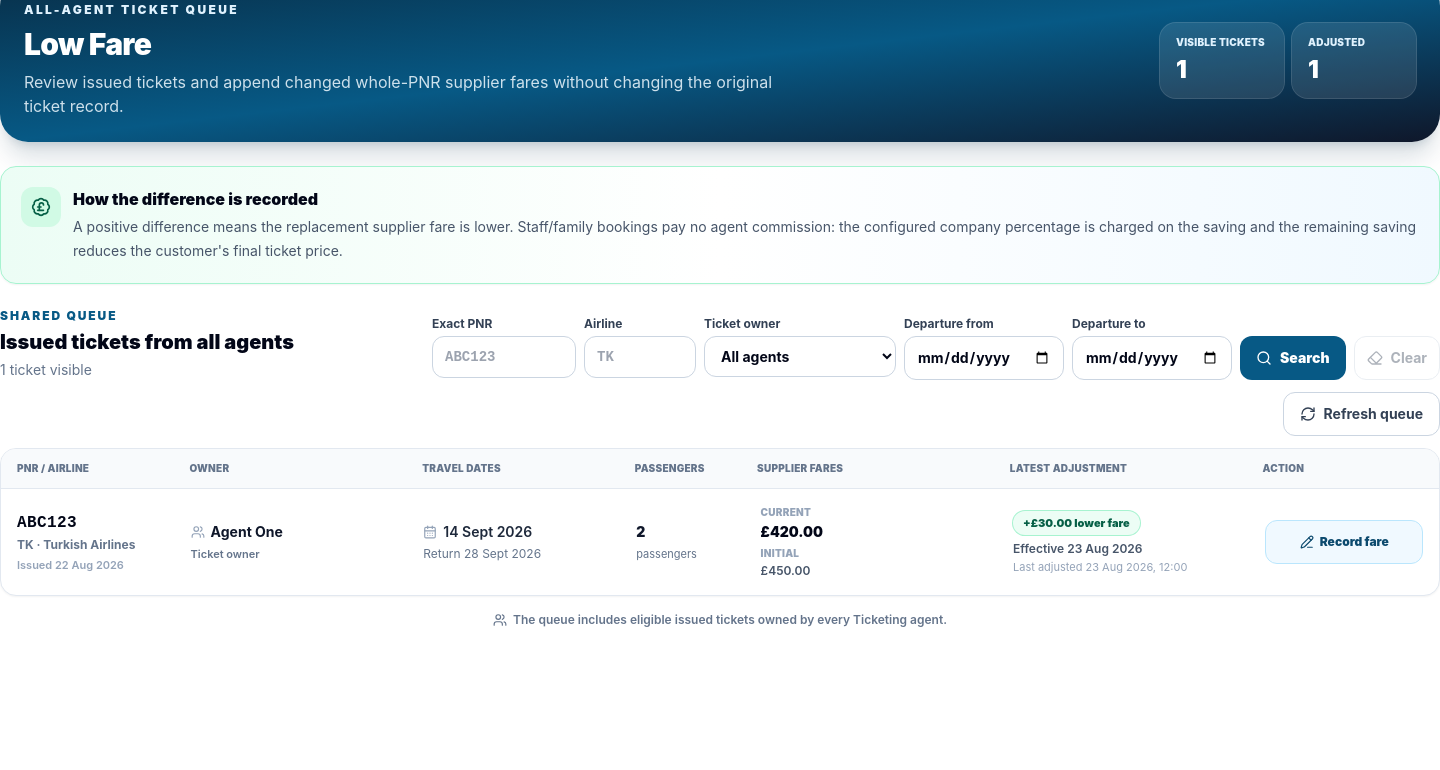
Test: LowFareClient › previews signed lower and higher fares and posts only operational adjustment fields
The width and height of the screenshot is (1440, 770).
Expected: the text "ABC123" is shown, [17,514,77,532]
Step 1. Click the button with aria-label "Record fare for ABC123" → [1344, 542], box [1265,520,1423,564]
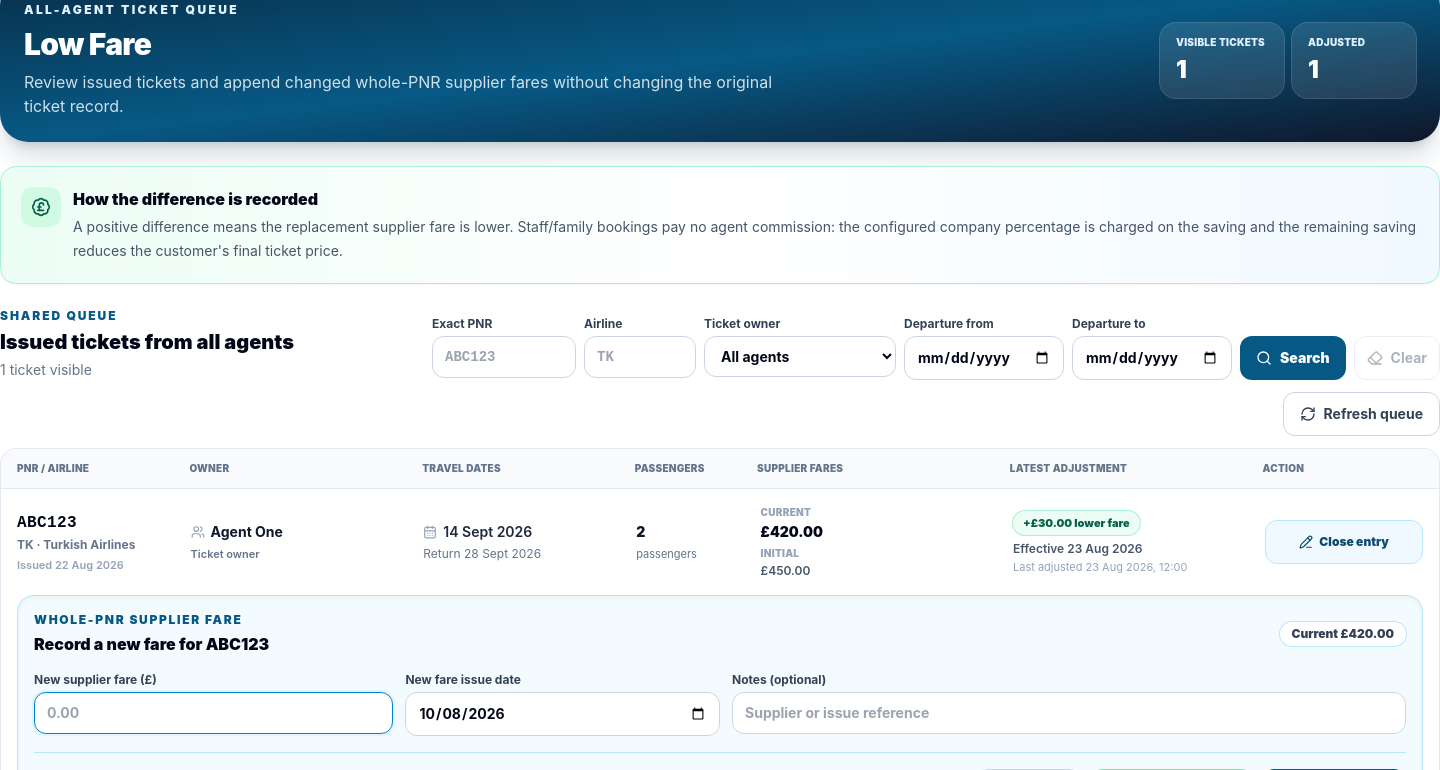
Step 2. Type "450.00" into the field named "New supplier fare for ABC123" → [214, 713], box [34,692,394,734]
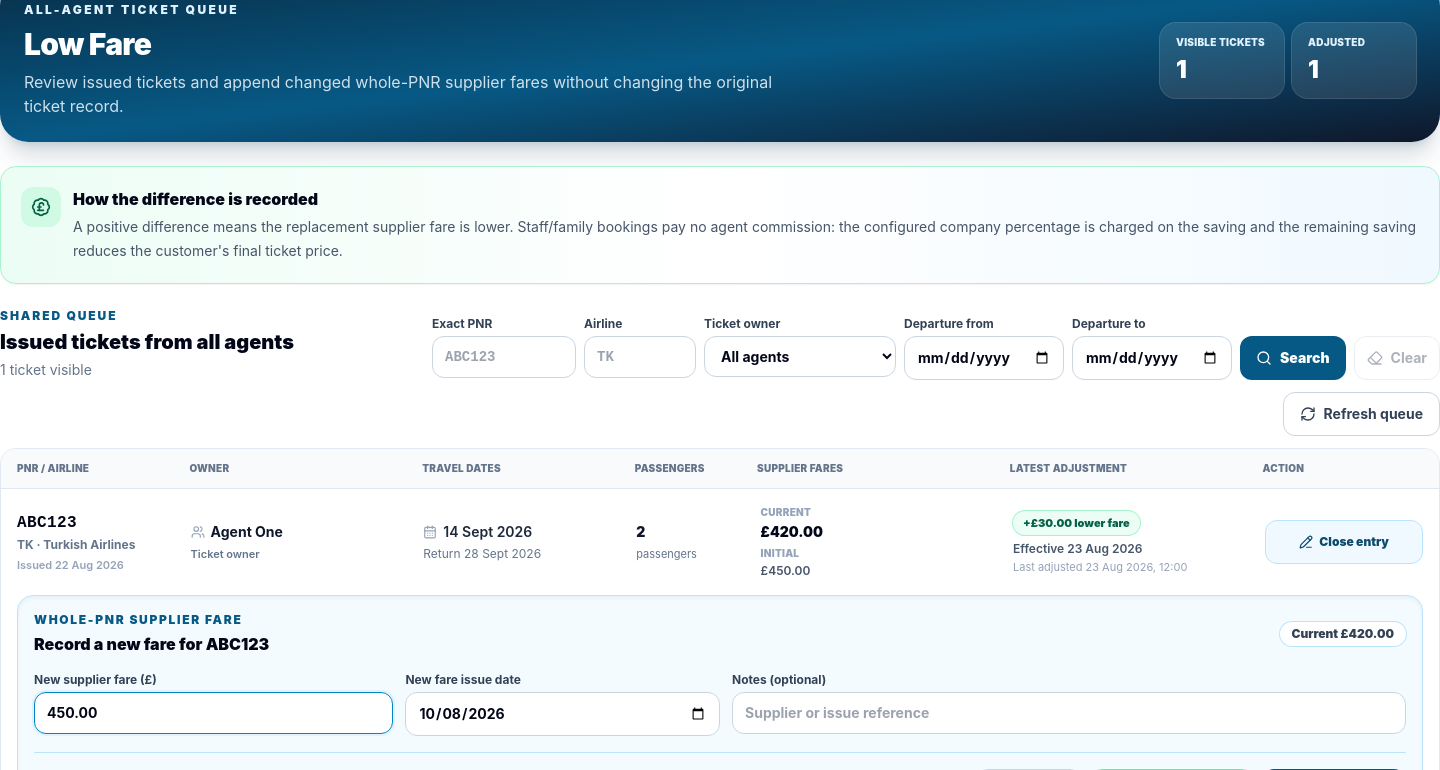
Step 3. Replace the text in the field named "New supplier fare for ABC123" with "380.00" → [214, 713], box [34,692,394,734]
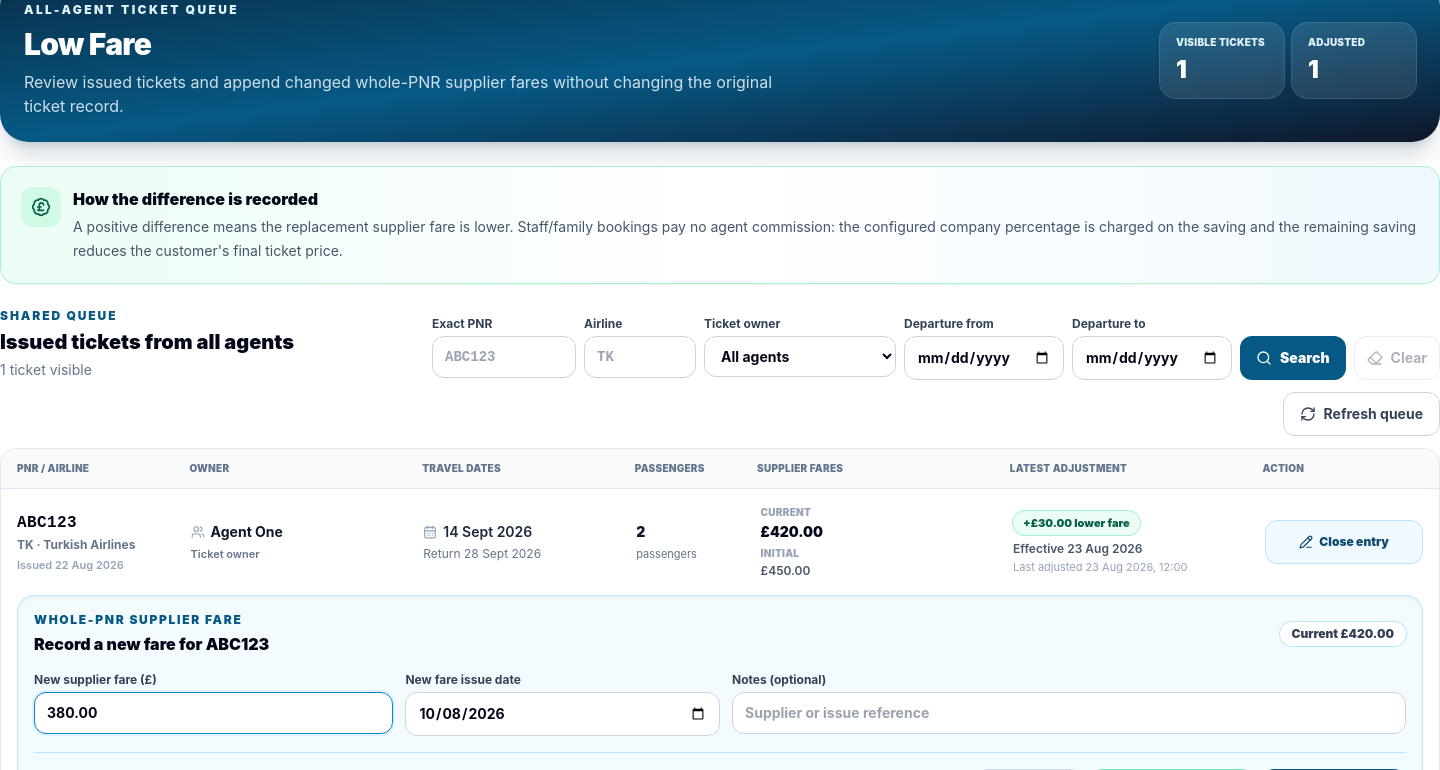
Step 4. Type "2026-08-24" into the date field labelled "New fare issue date" → [563, 714], box [406,692,720,736]
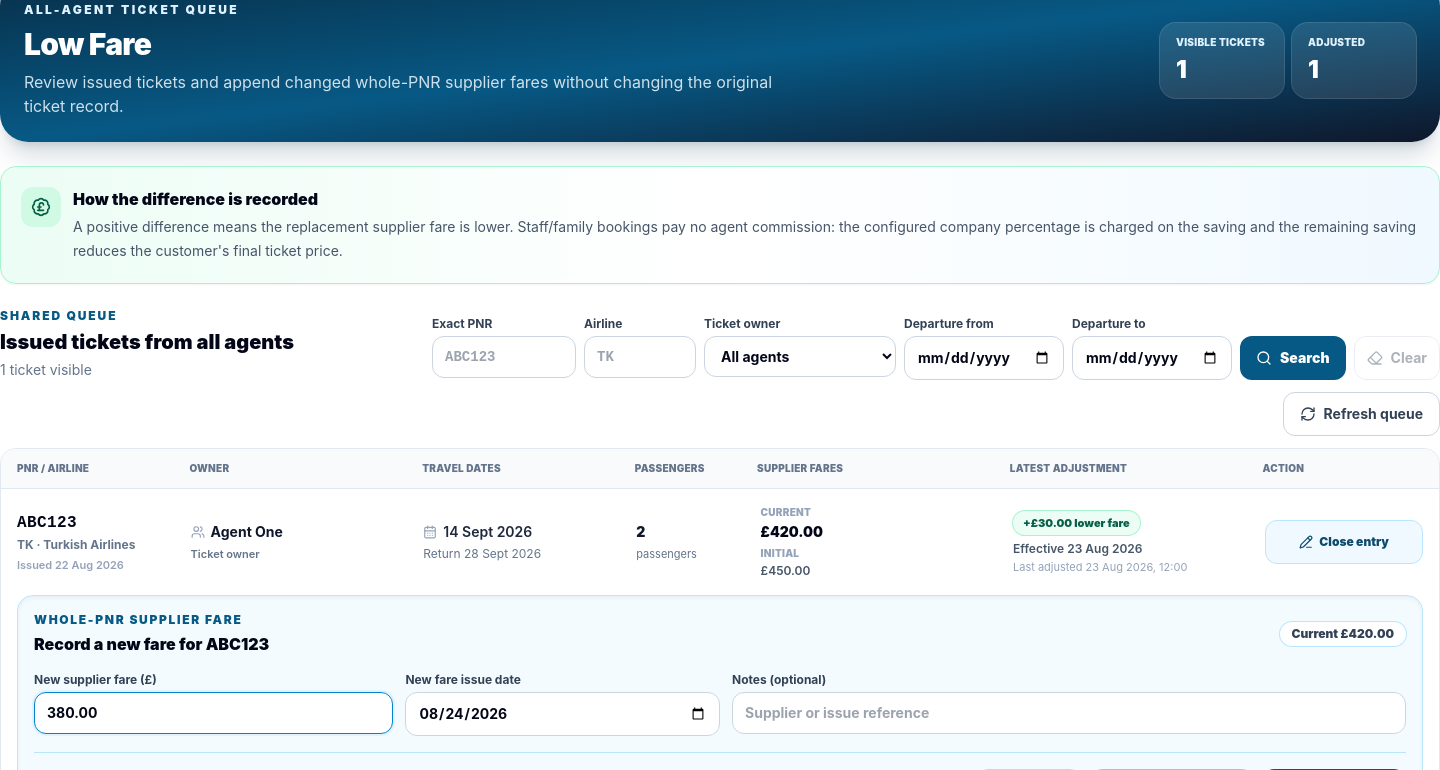
Step 5. Type "Supplier portal fare" into the field labelled "Notes (optional)" → [1069, 713], box [732,692,1406,734]
(page scrolled)
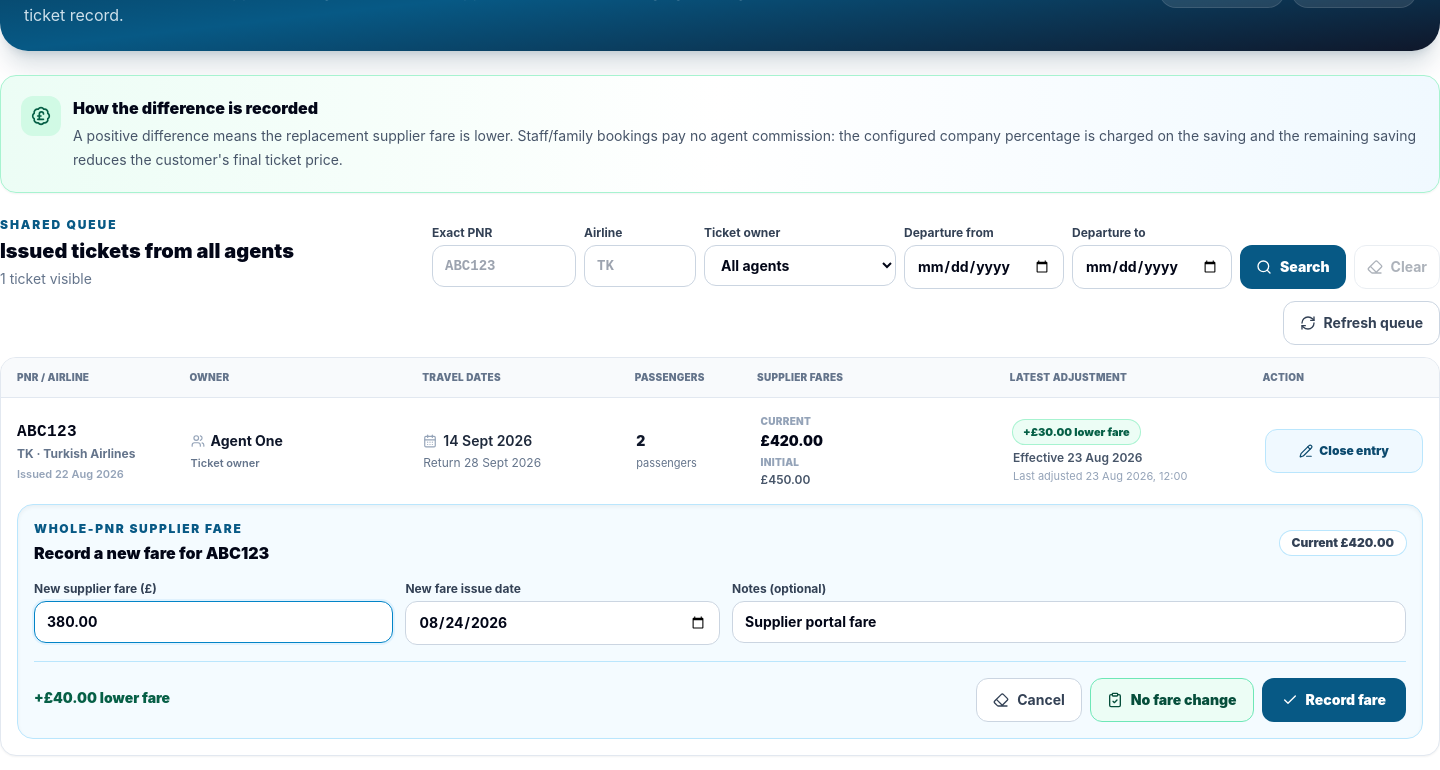
Step 6. Click the button "Record fare" → [1334, 700], box [1262,678,1406,722]
(page scrolled)
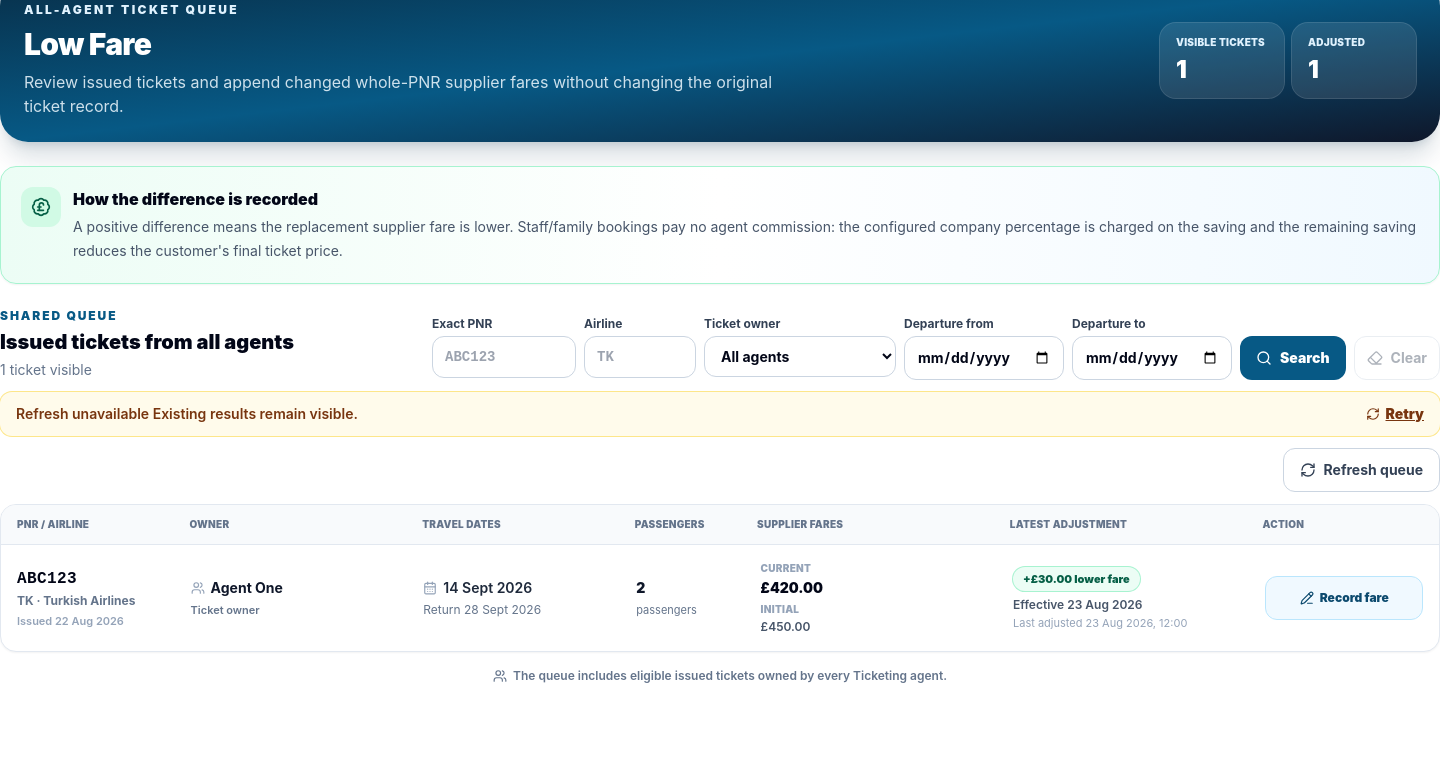
Result: the text "Refresh unavailable Existing results remain visible." is shown at [16,404,358,424]
